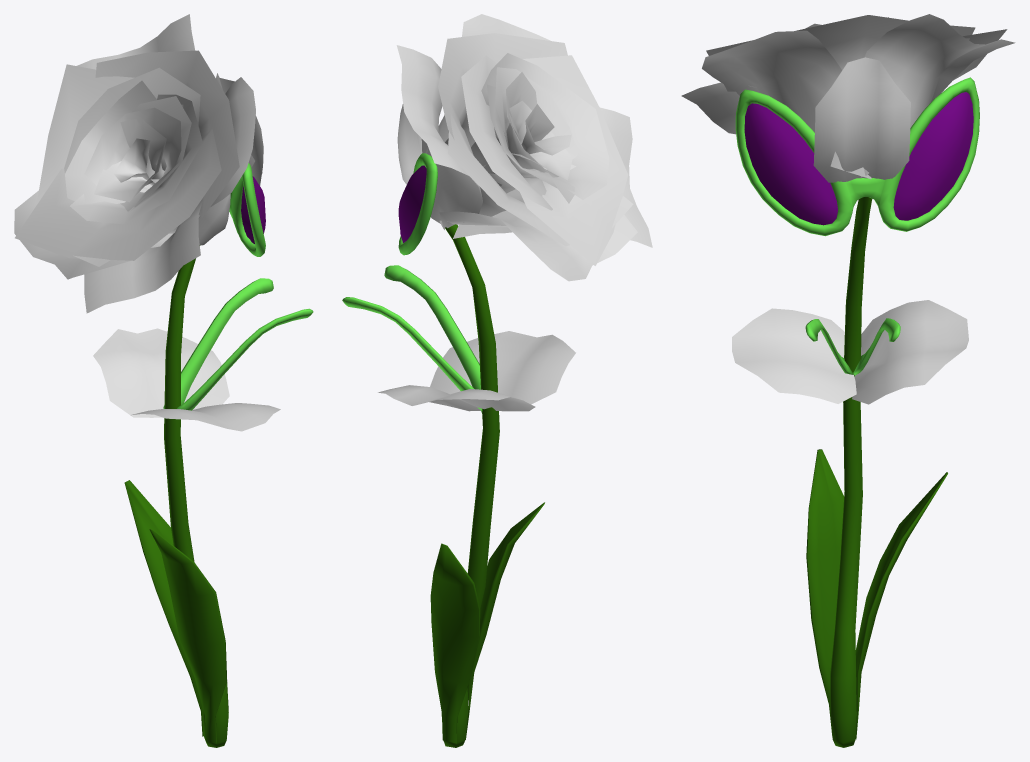
The model's file is Flower_Glasses.fbx.
3 renders of one model, left to right at view 1: azimuth 30°, elevation 25°; view 2: azimuth 150°, elevation 25°; view 3: azimuth 270°, elevation 25°, orthographic. The views are drawn at different scales.
Parts seen in each view (by area): view 1: Flower_Glasses; view 2: Flower_Glasses; view 3: Flower_Glasses.
Boxes of the visible parts, x1,y1,x2,y2 form: Flower_Glasses: (14, 14, 313, 747); Flower_Glasses: (342, 14, 652, 747); Flower_Glasses: (681, 14, 1015, 747).
Size of the model in its own units: 45.61 by 121 by 50.02.
